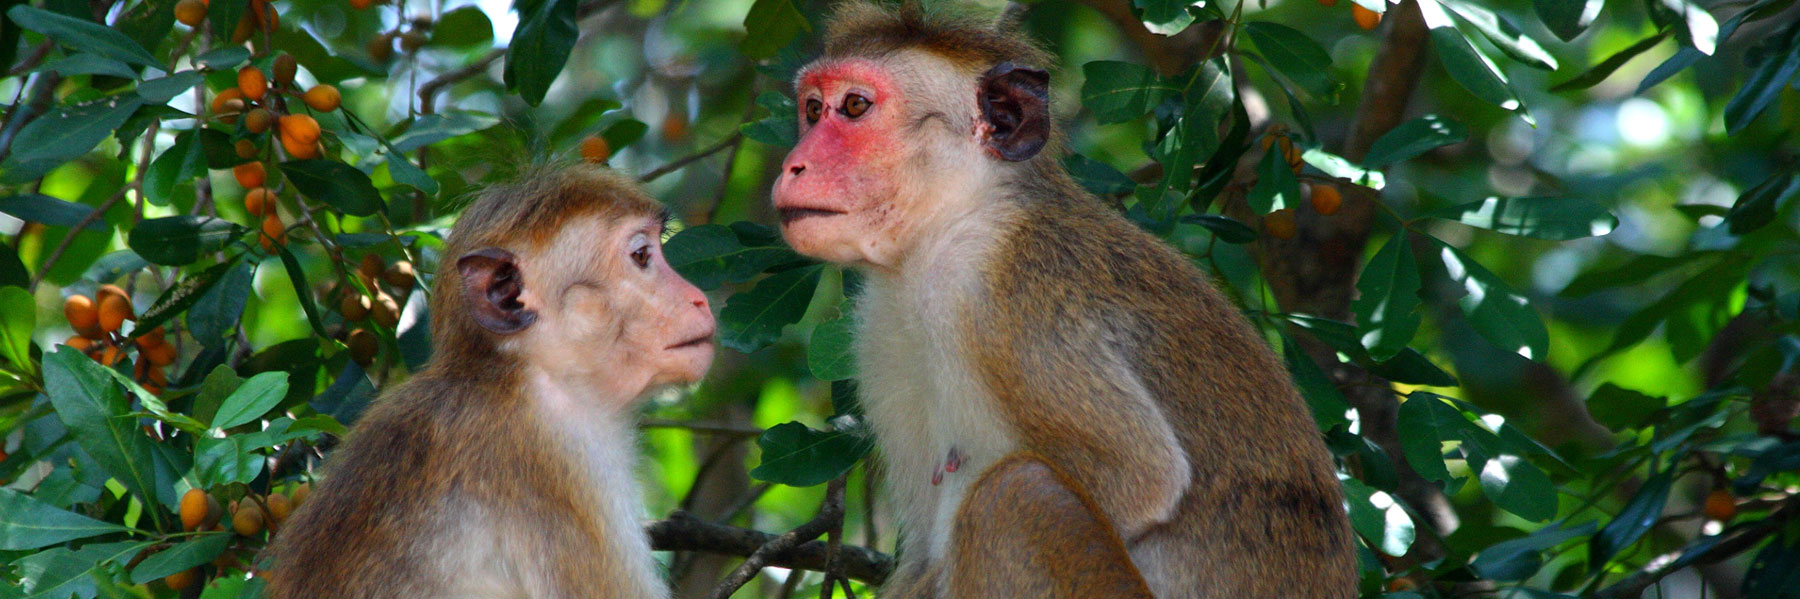Monkey: (743, 11, 1392, 599), (372, 132, 734, 599)
